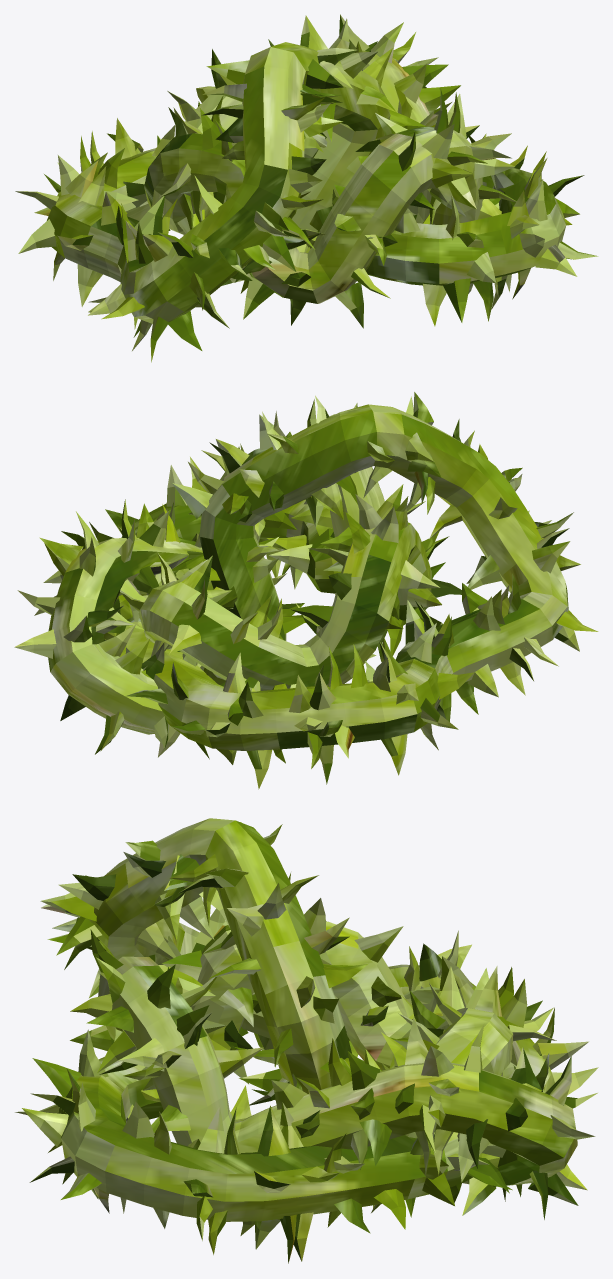
File: tappura3.fbx
The picture shows the model from 3 angles, top to bottom: view 1: azimuth 30°, elevation 25°; view 2: azimuth 150°, elevation 25°; view 3: azimuth 270°, elevation 25°; orthographic projection. The views are drawn at different scales.
Parts seen in each view (by area): view 1: BezierCurve.002; view 2: BezierCurve.002; view 3: BezierCurve.002.
Boxes of the visible parts, x1,y1,x2,y2 form: BezierCurve.002: [15, 14, 598, 362]; BezierCurve.002: [14, 392, 598, 789]; BezierCurve.002: [15, 818, 598, 1263].
Size of the model in its own units: 410 by 241 by 370.
